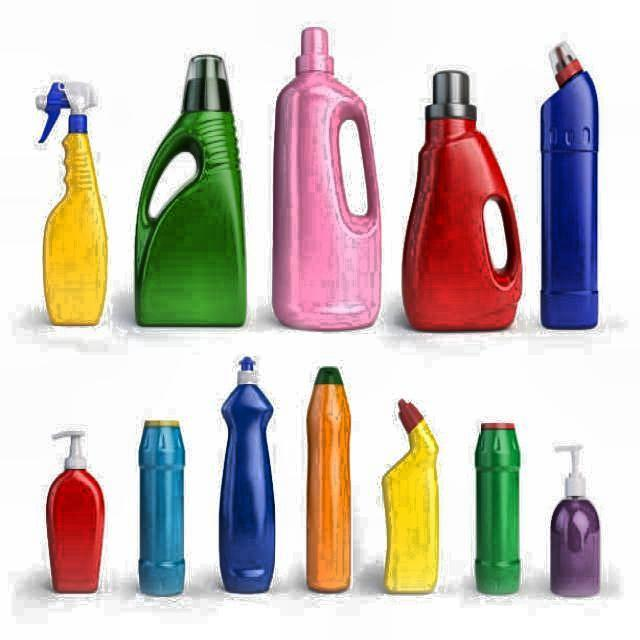plastic: (272, 27, 383, 334), (400, 70, 523, 333), (132, 54, 248, 331), (35, 82, 108, 327), (540, 41, 601, 333), (218, 363, 277, 597), (381, 399, 440, 596), (306, 367, 353, 596), (45, 431, 107, 597), (138, 419, 188, 599), (474, 421, 522, 598), (549, 446, 601, 599)
